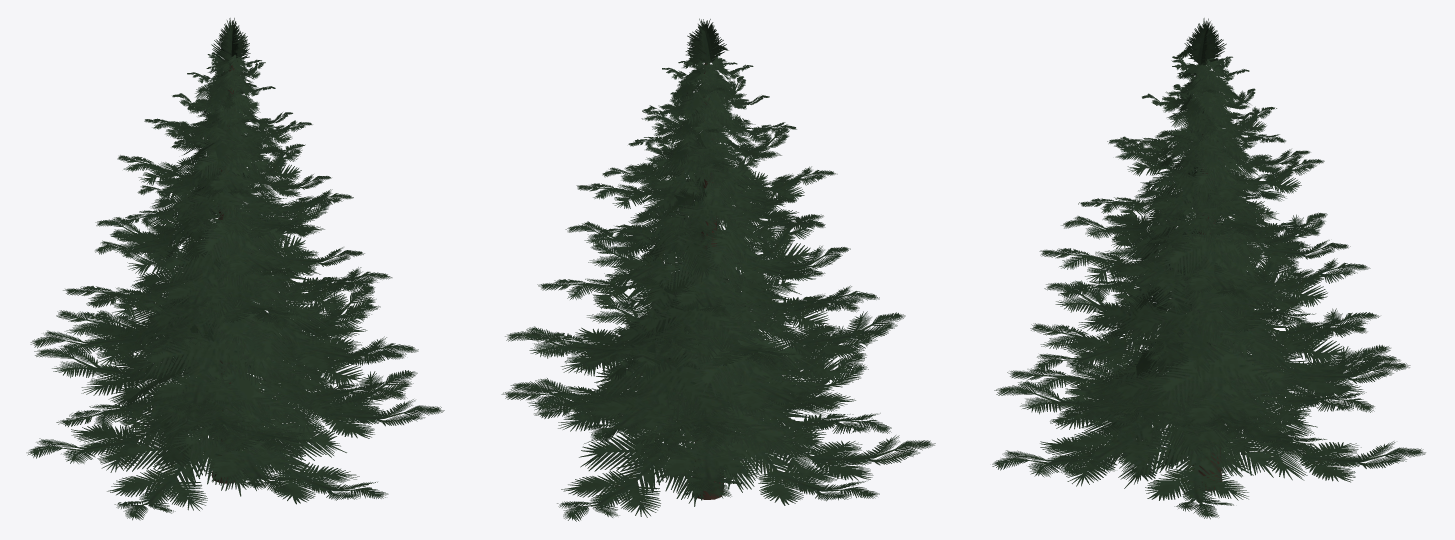
Rendered from arbre_epicea.glb.
3 views of the same model, side by side, from view 1: azimuth 30°, elevation 25°; view 2: azimuth 150°, elevation 25°; view 3: azimuth 270°, elevation 25° (orthographic). The views are drawn at different scales.
Parts seen in each view (by area): view 1: arbre_epicea; view 2: arbre_epicea; view 3: arbre_epicea.
Boxes of the visible parts, x1,y1,x2,y2 form: arbre_epicea: (26, 18, 444, 520); arbre_epicea: (501, 18, 935, 521); arbre_epicea: (992, 18, 1425, 519).
Size of the model in its own units: 10.77 by 12 by 10.68.
2 materials, 1 textured.
